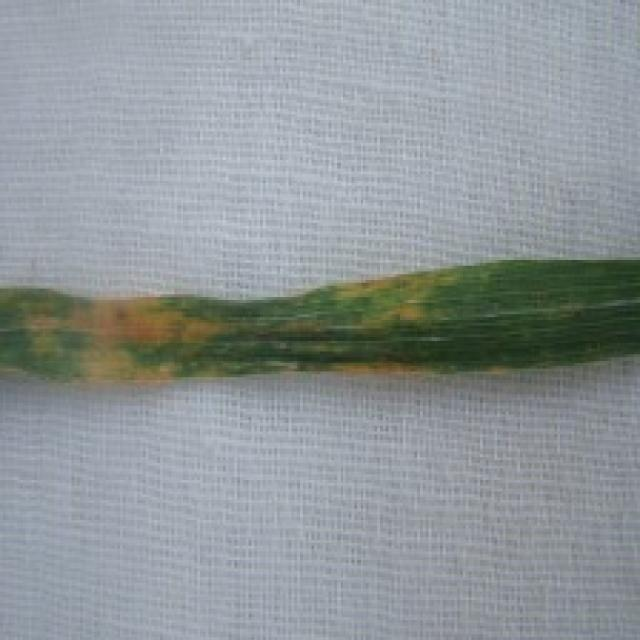Bacterial_Blight: (0, 282, 243, 388), (307, 270, 468, 330), (316, 333, 472, 393)
